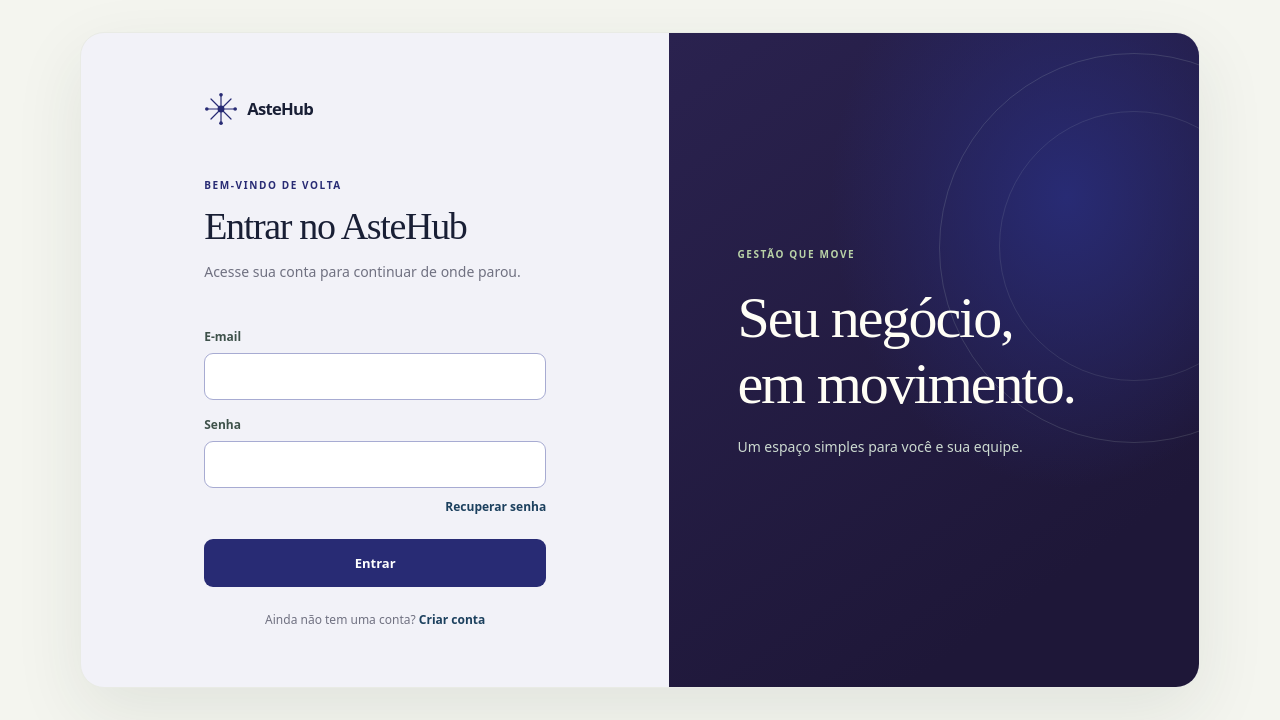
Scenario: login form › renders accessible fields and validates invalid values before submitting
Expected: the heading "Entrar no AsteHub" is shown, [204, 205, 466, 247]
Expected: the link with aria-label "AsteHub início" reads "AsteHub", [204, 92, 313, 126]
Type "not-an-email" into the field labelled "E-mail". click: (375, 376)
box: [204, 353, 546, 400]
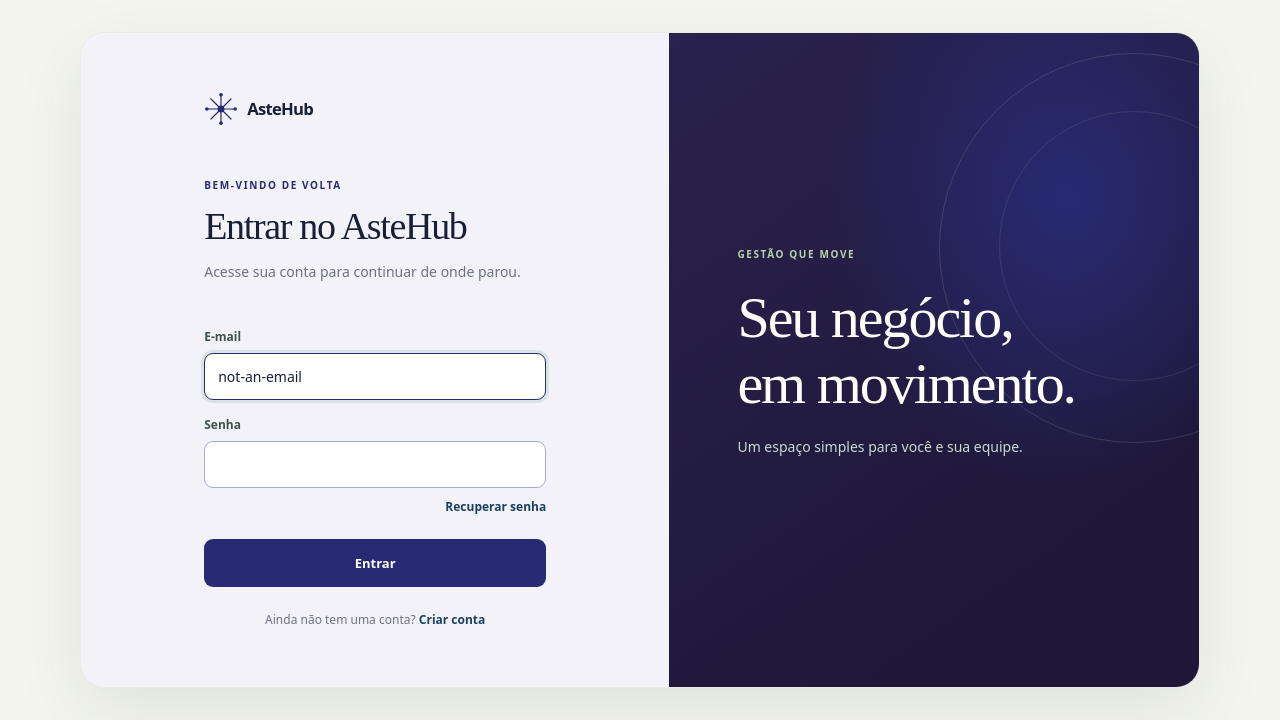
Type "short" into the password field labelled "Senha". click: (375, 464)
box: [204, 441, 546, 488]
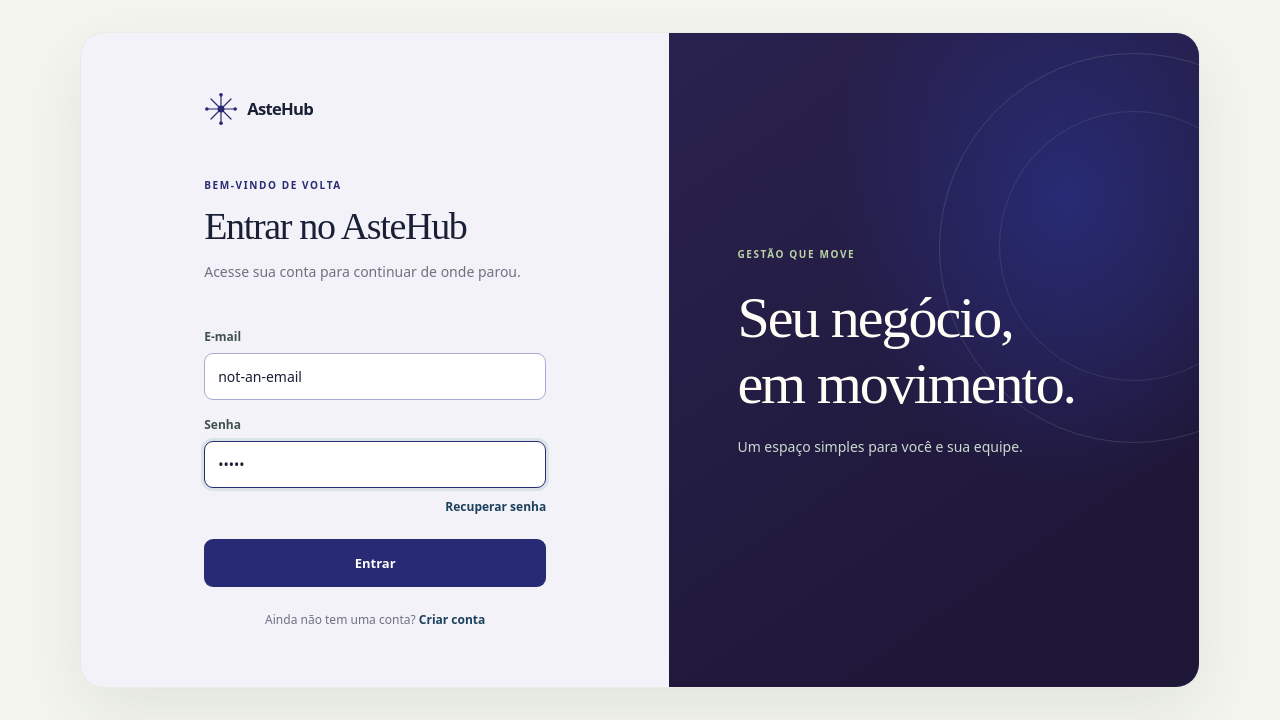
Click the button "Entrar". click: (375, 563)
box: [204, 539, 546, 587]
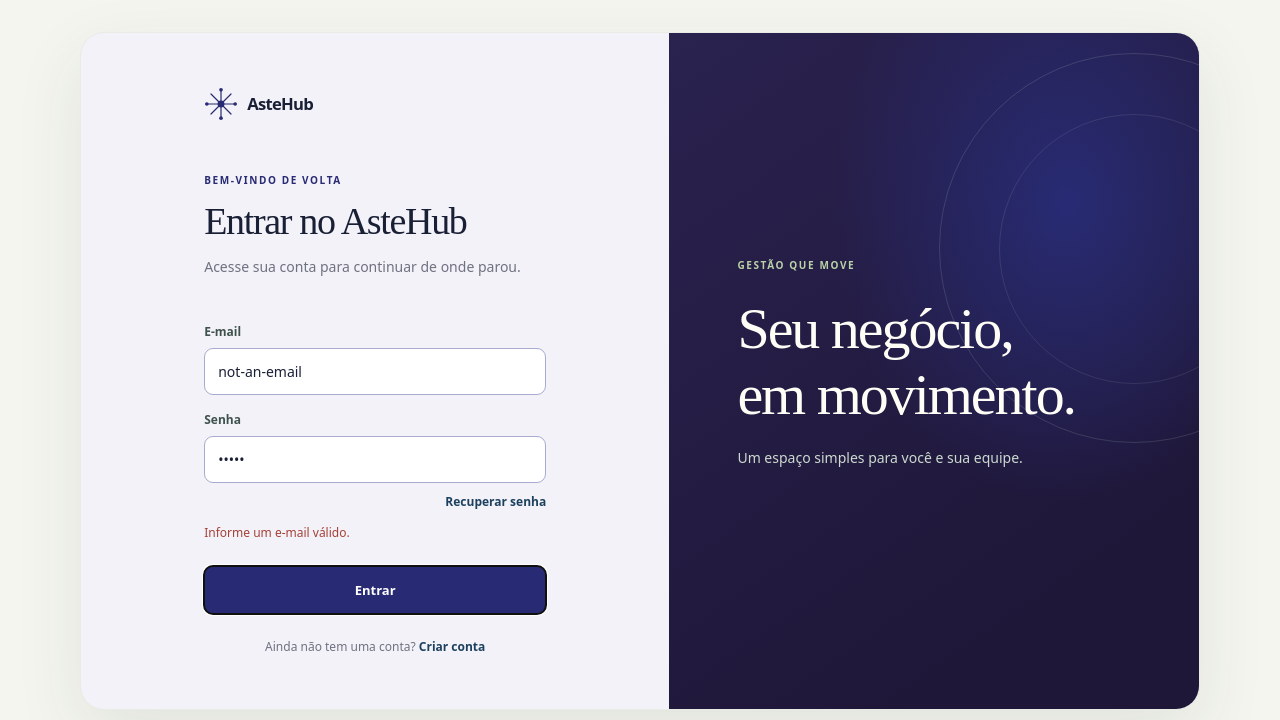
Expected: the message reads "Informe um e-mail válido.", [204, 524, 350, 541]
